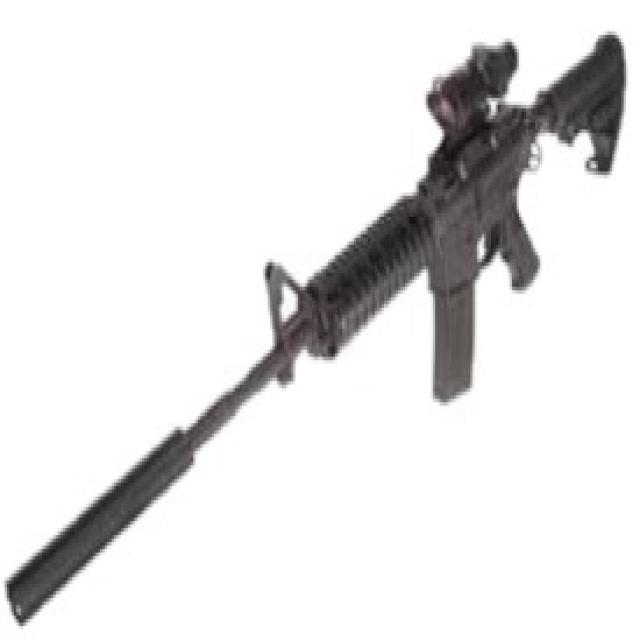rifle: (3, 20, 630, 635)
